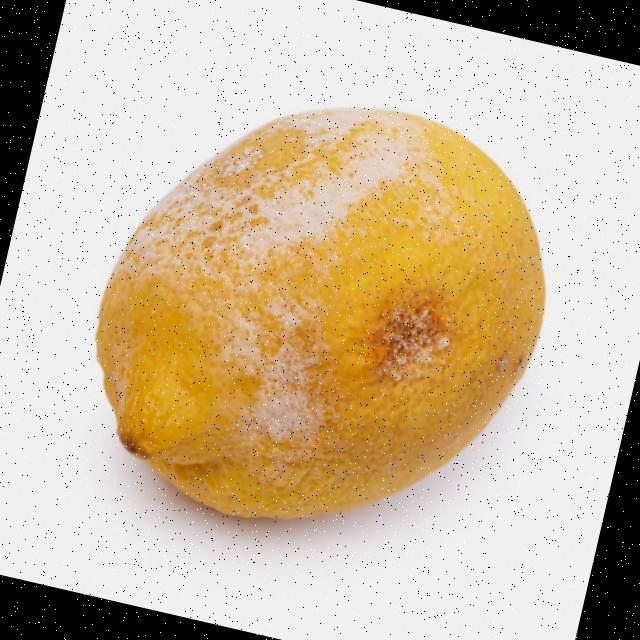overripe: (53, 41, 593, 584)
